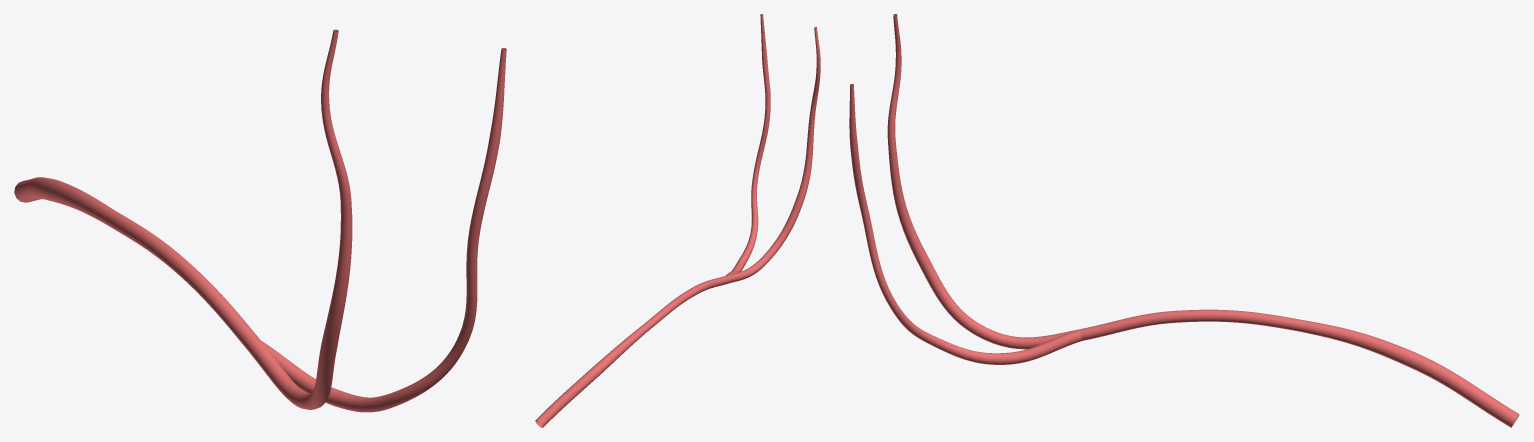
File: Supra-orbital_artery.l.002_BezierCurve.293.glb
3 views of the same model, side by side, from view 1: azimuth 30°, elevation 25°; view 2: azimuth 150°, elevation 25°; view 3: azimuth 270°, elevation 25° (orthographic). The views are drawn at different scales.
Parts seen in each view (by area): view 1: Supra-orbital_artery.l.002_BezierCurve.293; view 2: Supra-orbital_artery.l.002_BezierCurve.293; view 3: Supra-orbital_artery.l.002_BezierCurve.293.
Part boxes in pixels (x1,y1,x2,y2): Supra-orbital_artery.l.002_BezierCurve.293: (14,29,506,412); Supra-orbital_artery.l.002_BezierCurve.293: (535,14,820,427); Supra-orbital_artery.l.002_BezierCurve.293: (849,14,1519,427).
Bounding box in the file's own units: 0.00633 × 0.0205 × 0.0336.
